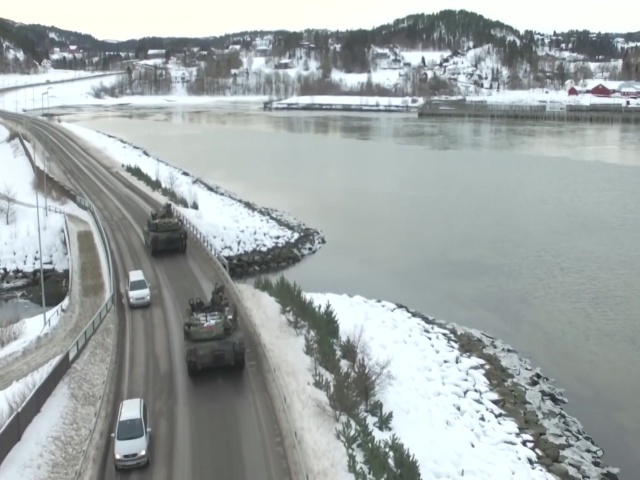vehicle: (182, 293, 247, 376), (111, 397, 152, 470), (142, 207, 190, 259), (124, 267, 153, 309)
